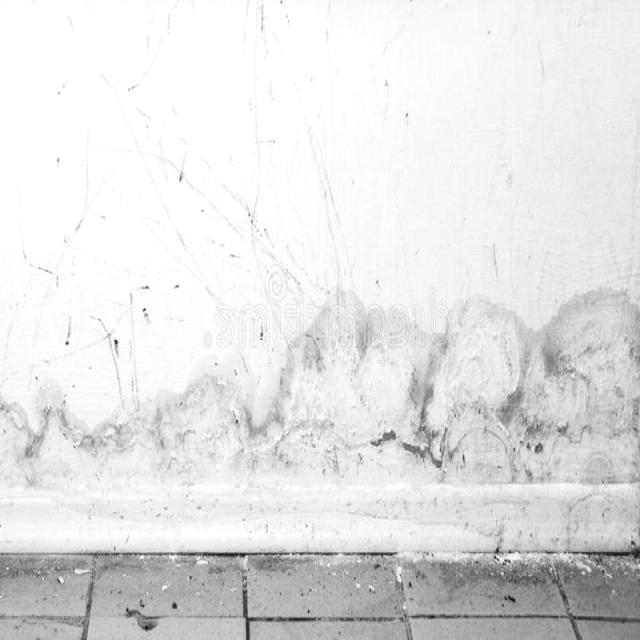stain marks: (0, 275, 640, 555)
